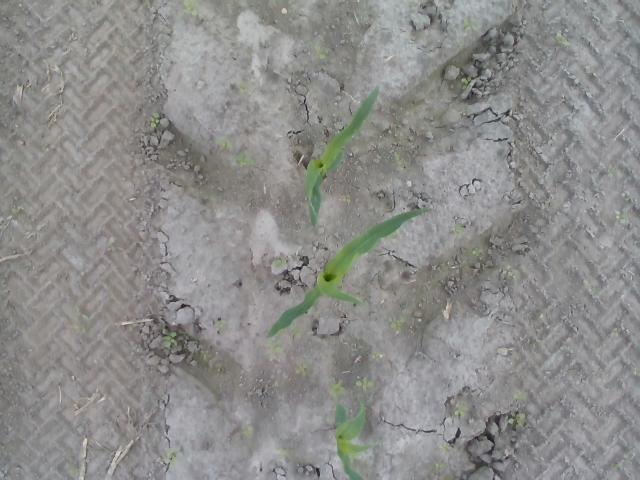Maize: (266, 206, 434, 342), (302, 86, 380, 227), (332, 399, 378, 480)
Weeds: (327, 383, 347, 400), (294, 358, 311, 376), (238, 152, 257, 167), (182, 0, 198, 17), (508, 411, 524, 428), (356, 376, 373, 392), (390, 316, 407, 332), (162, 329, 177, 347), (270, 256, 288, 269), (148, 111, 160, 128), (268, 338, 282, 352), (462, 19, 477, 32), (317, 46, 330, 60), (454, 402, 466, 417), (218, 137, 232, 149), (615, 210, 626, 223), (503, 264, 513, 276), (290, 328, 301, 338), (243, 426, 253, 436), (371, 351, 380, 360), (462, 78, 468, 89), (608, 170, 616, 176)
